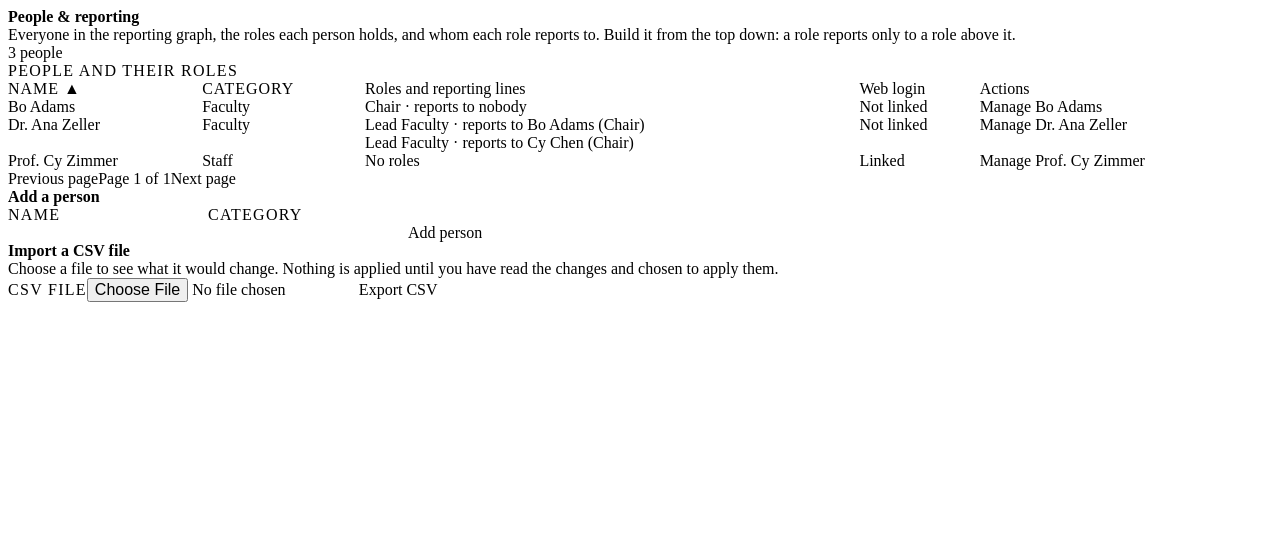
the person panel › says the server’s sentence for a refused grant in the live region that was already there
The image size is (1280, 537).
Click the button "Manage Bo Adams": (1041, 107) [980, 98, 1102, 116]
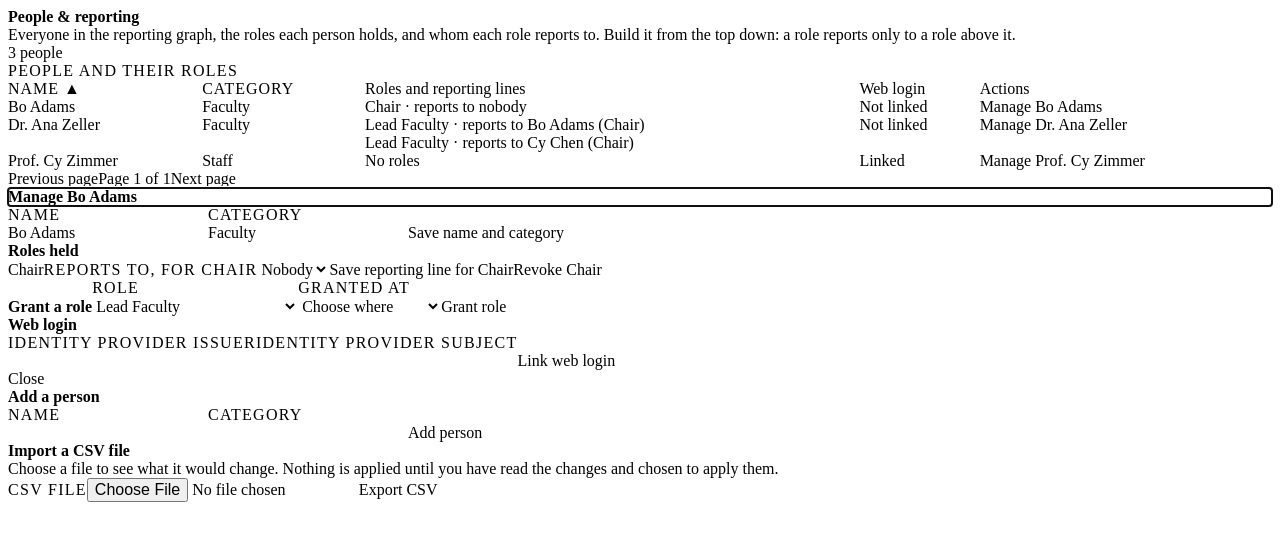
Select "Biology (Sciences)" in the dropdown labelled "Granted at": (370, 306) [298, 297, 441, 316]
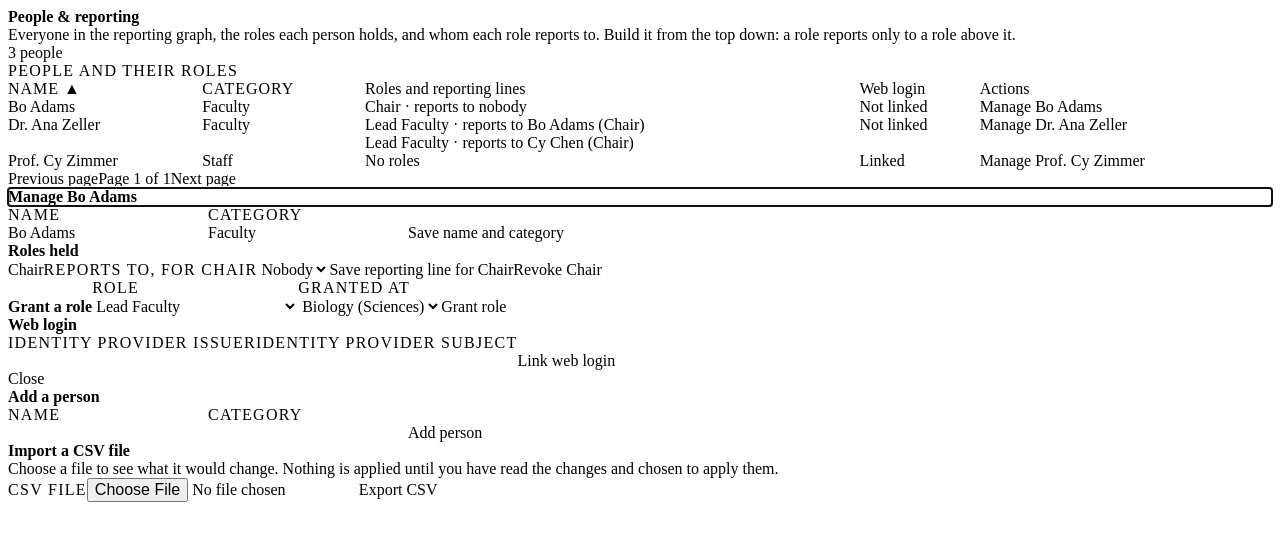
Click the button "Grant role": (474, 307) [441, 298, 506, 316]
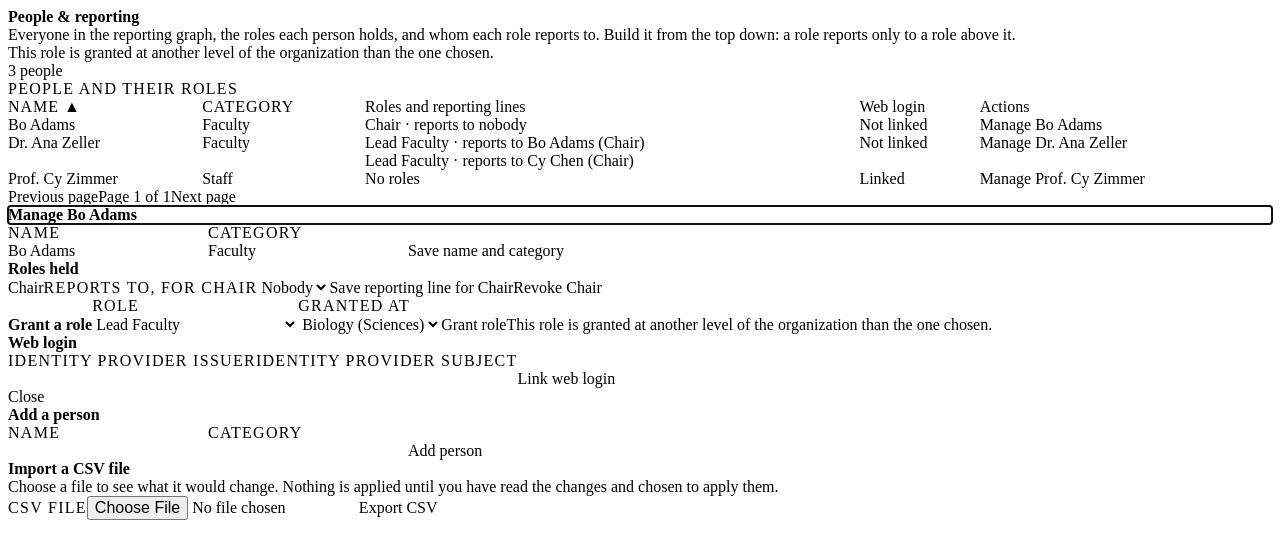
Expected: the message reads "This role is granted at another level of the organization than the one chosen.", [8, 44, 494, 61]
